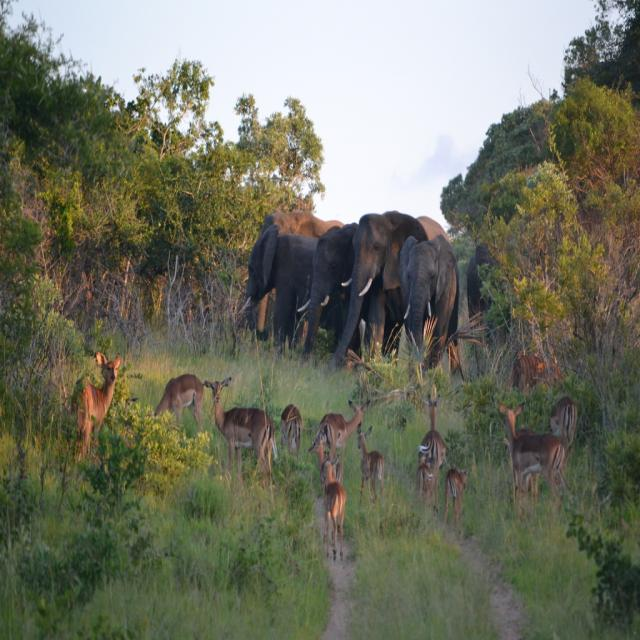elephant: (324, 197, 438, 365), (300, 216, 377, 390), (243, 222, 323, 356), (396, 234, 460, 369)
